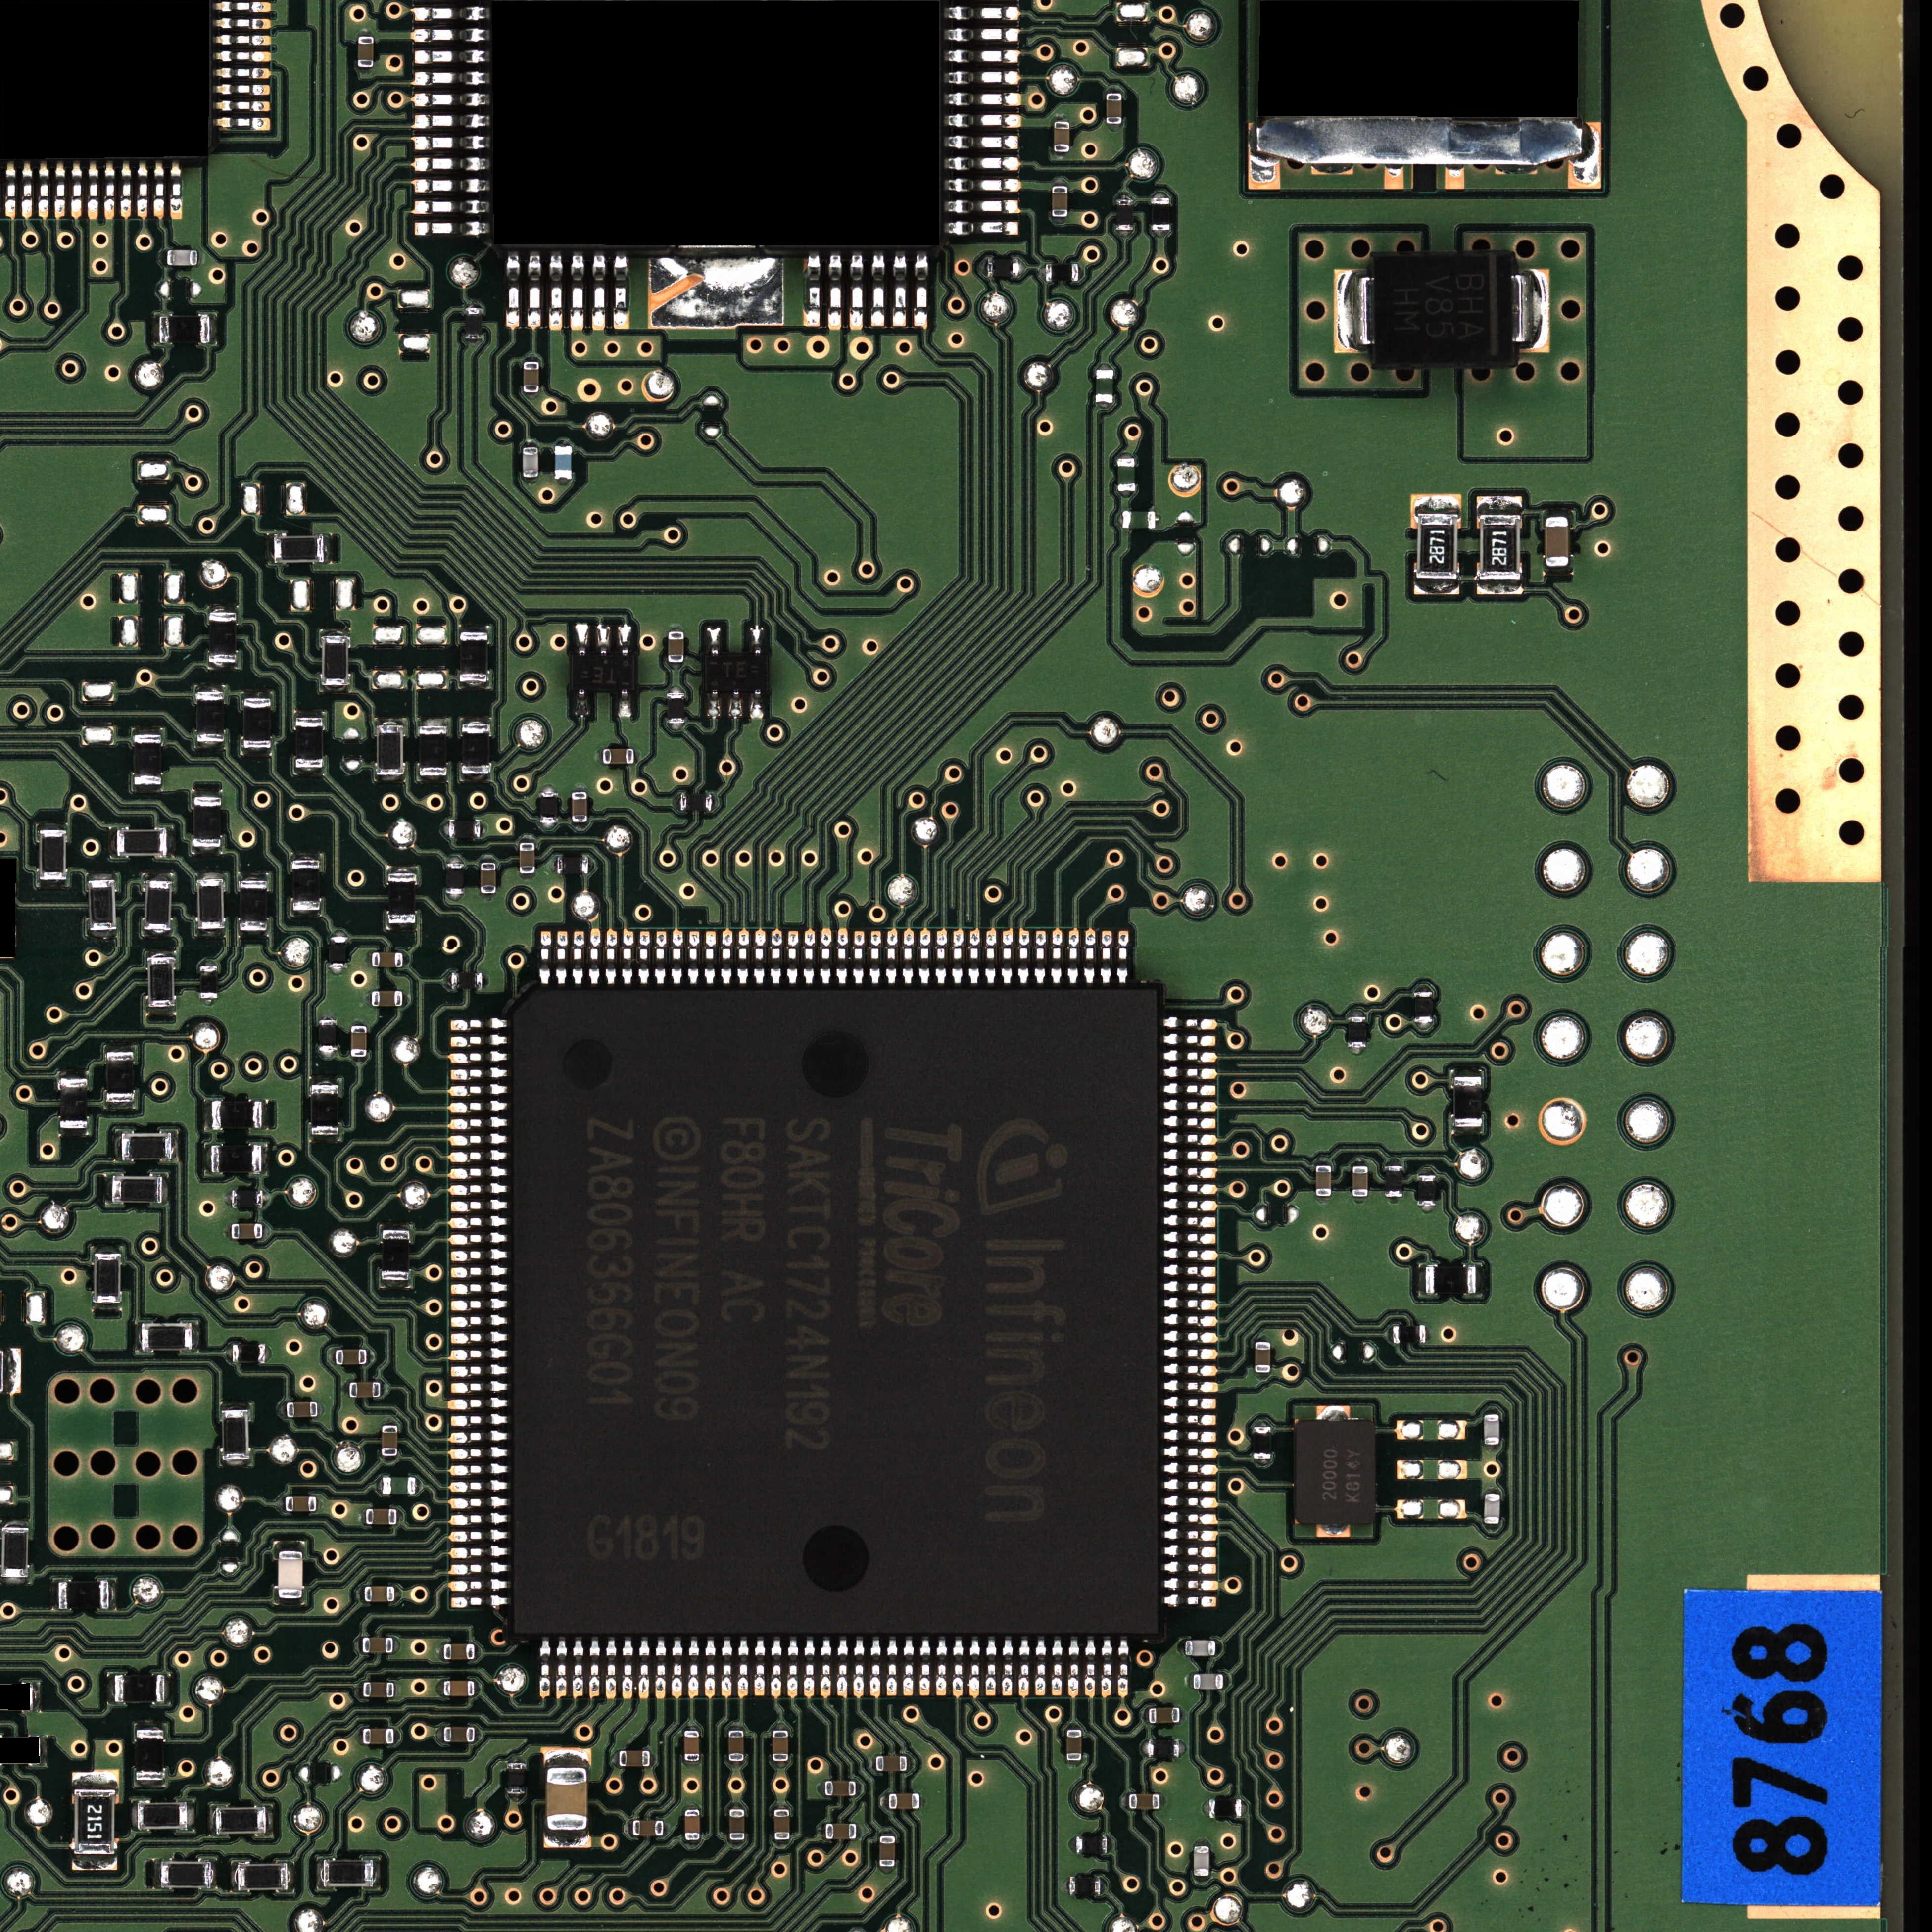Package: (508, 985, 1161, 1637), (1373, 253, 1513, 364), (1293, 1419, 1375, 1523), (74, 1789, 117, 1854), (1417, 513, 1458, 579), (1479, 515, 1520, 580), (547, 1767, 587, 1829), (571, 655, 635, 690), (704, 655, 768, 690), (1426, 1265, 1476, 1295), (387, 874, 416, 924), (196, 692, 225, 741), (159, 315, 209, 343), (193, 796, 221, 846), (209, 612, 237, 662), (462, 724, 490, 773), (295, 718, 324, 768), (136, 1730, 165, 1780), (115, 1674, 165, 1702), (212, 1100, 262, 1129), (106, 1051, 134, 1100), (242, 699, 271, 747), (460, 633, 488, 681), (212, 1145, 260, 1173), (1454, 1077, 1483, 1125), (274, 536, 324, 563), (292, 860, 318, 909), (117, 830, 166, 856), (241, 881, 267, 931), (134, 734, 161, 784), (58, 1582, 108, 1608), (122, 1132, 172, 1159), (60, 1077, 87, 1127), (216, 1806, 265, 1833), (142, 1323, 191, 1350), (324, 1859, 373, 1886), (2, 1527, 28, 1576), (311, 1085, 338, 1134), (322, 637, 349, 685), (419, 727, 446, 775), (113, 1177, 161, 1203), (382, 1231, 409, 1279), (239, 1863, 287, 1890), (198, 879, 223, 929), (377, 725, 402, 775), (41, 830, 65, 879), (145, 881, 170, 931), (138, 1803, 188, 1828), (223, 1410, 248, 1460), (149, 957, 173, 1007), (1545, 517, 1569, 566), (161, 1861, 209, 1886), (94, 1254, 119, 1302), (90, 881, 113, 931), (278, 1552, 303, 1598), (985, 257, 1019, 278), (1116, 458, 1136, 492), (1253, 1426, 1272, 1460), (557, 855, 589, 874), (232, 1189, 264, 1208), (1152, 198, 1171, 230), (1414, 993, 1433, 1024), (1417, 1175, 1437, 1207), (382, 1477, 416, 1495), (1095, 370, 1113, 403), (1122, 511, 1155, 529), (1046, 264, 1079, 281), (329, 936, 347, 968), (200, 966, 218, 998), (540, 791, 557, 823), (465, 308, 483, 340), (446, 863, 464, 895), (508, 1762, 525, 1794), (318, 1021, 336, 1053), (234, 1345, 265, 1362), (1348, 1016, 1366, 1047), (1392, 1325, 1424, 1343), (1076, 1836, 1108, 1854), (1385, 1166, 1403, 1198), (556, 446, 571, 479), (667, 694, 685, 724), (449, 821, 479, 839), (681, 794, 711, 812), (1116, 200, 1134, 230), (1483, 1414, 1500, 1444), (1210, 1799, 1240, 1817), (1070, 1877, 1100, 1895), (524, 361, 540, 393), (285, 1495, 317, 1511), (357, 37, 373, 67), (603, 748, 633, 764), (372, 952, 402, 968), (571, 793, 587, 823), (372, 991, 402, 1007), (166, 249, 196, 265), (522, 448, 538, 478), (350, 1026, 366, 1056), (685, 1810, 701, 1840), (773, 1810, 789, 1840), (363, 1637, 393, 1652), (876, 1755, 906, 1771), (232, 1223, 262, 1238), (366, 1509, 396, 1525), (363, 1729, 393, 1744), (350, 1382, 380, 1398), (287, 1401, 317, 1417), (444, 1681, 474, 1697), (633, 1821, 663, 1836), (444, 1644, 474, 1660), (444, 1727, 474, 1743), (729, 1810, 745, 1840), (382, 1426, 398, 1456), (364, 1585, 395, 1601), (879, 1836, 895, 1867), (1106, 94, 1122, 124), (1054, 122, 1070, 152), (1484, 1493, 1500, 1523), (1129, 1794, 1159, 1810), (1254, 1343, 1270, 1373), (1352, 1166, 1368, 1196), (1185, 1640, 1215, 1656), (1150, 1707, 1180, 1723), (1316, 1166, 1332, 1196), (1148, 1741, 1178, 1757), (826, 1780, 855, 1796), (1053, 186, 1067, 218), (1194, 1674, 1223, 1690), (520, 844, 534, 874), (669, 632, 683, 662), (481, 863, 495, 893), (773, 1730, 787, 1760), (685, 1730, 699, 1760), (336, 1350, 366, 1364), (826, 1824, 856, 1838), (363, 1683, 393, 1697), (619, 1752, 649, 1766), (729, 1730, 743, 1760), (1067, 1730, 1081, 1760), (890, 1794, 918, 1808), (1194, 1847, 1208, 1875)
Solder: (1253, 120, 1601, 189), (651, 258, 784, 326), (1336, 269, 1373, 354), (1514, 269, 1550, 352), (614, 253, 630, 329), (547, 255, 563, 331), (504, 253, 520, 329), (414, 136, 490, 152), (414, 157, 490, 173), (416, 200, 492, 216), (416, 221, 492, 237), (414, 177, 490, 193), (591, 255, 607, 329), (570, 255, 586, 329), (414, 5, 488, 21), (414, 27, 488, 42), (416, 50, 490, 65), (416, 73, 490, 88), (414, 92, 488, 108), (414, 113, 488, 129), (948, 113, 1019, 129), (805, 253, 819, 327), (527, 253, 541, 327), (947, 5, 1019, 19), (947, 48, 1019, 62), (947, 134, 1019, 149), (947, 92, 1019, 106), (948, 28, 1019, 42), (948, 71, 1019, 85), (948, 157, 1019, 172), (948, 221, 1019, 235), (948, 198, 1019, 212), (948, 179, 1019, 193), (915, 251, 927, 326), (893, 251, 906, 326), (870, 253, 883, 327), (830, 253, 842, 327), (2, 1348, 21, 1394), (543, 1831, 591, 1849), (543, 1748, 591, 1766), (449, 1215, 506, 1230), (449, 1200, 506, 1214), (449, 1051, 506, 1065), (449, 1380, 506, 1394), (449, 1067, 506, 1081), (449, 1414, 506, 1428), (449, 1430, 506, 1444), (449, 1150, 506, 1164), (449, 1166, 506, 1180), (449, 1182, 506, 1196), (449, 1116, 506, 1131), (449, 1100, 506, 1115), (449, 1463, 506, 1477), (449, 1479, 506, 1493), (449, 1562, 506, 1576), (449, 1529, 506, 1543), (449, 1513, 506, 1527), (449, 1578, 506, 1592), (214, 117, 271, 131), (851, 253, 862, 327), (1412, 495, 1456, 513), (451, 1330, 506, 1345), (451, 1315, 506, 1329), (451, 1281, 506, 1295), (451, 1265, 506, 1279), (451, 1364, 506, 1378), (451, 1017, 506, 1031), (605, 1638, 617, 1698), (655, 1638, 667, 1698), (853, 1638, 865, 1698), (952, 1638, 964, 1698), (1051, 1637, 1063, 1697), (73, 1771, 119, 1787), (1477, 497, 1523, 513), (1164, 1545, 1215, 1559), (556, 1640, 568, 1698), (902, 1638, 915, 1697), (803, 1640, 816, 1698), (754, 1638, 766, 1697), (704, 1640, 717, 1698), (1001, 1638, 1014, 1697), (1100, 1638, 1113, 1697), (73, 1854, 117, 1870), (449, 1233, 506, 1246), (449, 1398, 506, 1410), (449, 1035, 506, 1047), (449, 1085, 506, 1097), (449, 1134, 506, 1146), (449, 1447, 506, 1460), (449, 1497, 506, 1509), (451, 1299, 506, 1311), (451, 1249, 506, 1261), (451, 1348, 506, 1361), (451, 1546, 506, 1559), (451, 1596, 506, 1608), (1162, 1017, 1217, 1030), (1162, 1067, 1217, 1079), (1162, 1479, 1217, 1491), (1162, 1463, 1217, 1476), (1162, 1495, 1217, 1507), (1162, 1578, 1217, 1591), (853, 929, 865, 982), (819, 927, 832, 980), (1164, 1346, 1217, 1359), (1164, 1330, 1217, 1343), (1164, 1315, 1217, 1327), (1164, 1364, 1217, 1376), (1164, 1380, 1217, 1392), (1162, 1231, 1215, 1244), (1164, 1396, 1217, 1408), (1162, 1083, 1215, 1095), (1162, 1033, 1215, 1046), (1162, 1051, 1215, 1063), (1162, 1100, 1215, 1113), (1164, 1430, 1217, 1442), (1164, 1166, 1217, 1178), (1164, 1182, 1217, 1194), (1162, 1215, 1215, 1228), (1164, 1150, 1217, 1162), (1069, 1637, 1079, 1698), (1162, 1562, 1215, 1575), (1085, 1637, 1095, 1698), (1477, 580, 1523, 594), (589, 1638, 600, 1698), (623, 1638, 633, 1698), (970, 1638, 980, 1698), (639, 1638, 649, 1698), (672, 1638, 683, 1698), (870, 1638, 881, 1698), (837, 1638, 847, 1698), (688, 1638, 699, 1698), (787, 1638, 798, 1698), (771, 1638, 782, 1698), (952, 929, 964, 980), (918, 929, 931, 980), (902, 929, 915, 980), (605, 929, 617, 980), (621, 929, 633, 980), (754, 929, 766, 980), (770, 929, 782, 980), (803, 929, 816, 980), (736, 929, 748, 980), (720, 929, 732, 980), (1051, 929, 1063, 980), (968, 929, 980, 980), (1001, 929, 1014, 980), (1017, 929, 1030, 980), (984, 929, 996, 980), (1067, 929, 1079, 980), (1083, 929, 1095, 980), (1164, 1249, 1215, 1261), (1164, 1299, 1215, 1311), (1164, 1265, 1215, 1277), (1164, 1281, 1215, 1293), (1164, 1414, 1215, 1426), (1164, 1200, 1215, 1212), (1164, 1116, 1215, 1129), (1164, 1132, 1215, 1145), (1164, 1513, 1215, 1525), (1164, 1529, 1215, 1541), (573, 1640, 584, 1698), (936, 1638, 947, 1697), (540, 1640, 550, 1698), (920, 1638, 931, 1697), (886, 1638, 897, 1697), (821, 1640, 832, 1698), (722, 1640, 732, 1698), (738, 1638, 748, 1697), (985, 1638, 996, 1697), (1019, 1638, 1030, 1697), (1035, 1638, 1046, 1697), (1118, 1638, 1129, 1697), (556, 931, 568, 980), (655, 931, 667, 980), (671, 931, 683, 980), (704, 931, 717, 980), (1116, 931, 1129, 980), (1100, 931, 1113, 980), (1414, 580, 1456, 594), (214, 18, 271, 28), (214, 51, 271, 62), (214, 83, 271, 94), (214, 101, 271, 111), (214, 67, 271, 78), (154, 161, 165, 218), (172, 163, 182, 219), (39, 161, 50, 218), (216, 2, 271, 12), (216, 35, 271, 46), (71, 163, 81, 218), (104, 163, 115, 218), (5, 163, 16, 218), (55, 163, 65, 218), (1164, 1447, 1217, 1458), (936, 929, 947, 980), (589, 929, 600, 980), (886, 929, 897, 980), (837, 929, 847, 980), (1035, 929, 1046, 980), (1164, 1596, 1215, 1606), (1316, 1405, 1350, 1421), (540, 931, 550, 980), (573, 931, 584, 980), (639, 931, 649, 980), (870, 931, 881, 980), (787, 931, 798, 980), (688, 931, 699, 980), (573, 623, 589, 655), (88, 163, 97, 219), (122, 163, 131, 218), (138, 163, 147, 218), (23, 163, 32, 218), (596, 625, 612, 655), (1316, 1523, 1350, 1537), (617, 625, 632, 655), (708, 626, 722, 656), (575, 690, 589, 718), (750, 690, 764, 718), (708, 690, 722, 718), (617, 690, 632, 718), (729, 690, 743, 718), (750, 626, 763, 655), (387, 862, 416, 872), (318, 685, 350, 694), (104, 1173, 113, 1205), (191, 1322, 200, 1353), (265, 1805, 274, 1836), (113, 1131, 122, 1161), (104, 1102, 134, 1111), (58, 1129, 88, 1138), (287, 1861, 295, 1891), (230, 1861, 239, 1891), (34, 1683, 42, 1713), (147, 948, 175, 957), (196, 870, 225, 879), (239, 872, 267, 881), (292, 853, 320, 862), (143, 929, 172, 938), (221, 1401, 249, 1410), (106, 1042, 134, 1051), (60, 1069, 88, 1077), (147, 1007, 175, 1016), (274, 1541, 303, 1550), (136, 1721, 165, 1730), (1543, 566, 1571, 575), (260, 1143, 267, 1177), (1476, 1263, 1483, 1297), (39, 879, 65, 888), (134, 784, 161, 793), (145, 872, 172, 881), (209, 313, 216, 345), (318, 630, 350, 637), (205, 1099, 212, 1131), (134, 1322, 142, 1353), (161, 1173, 168, 1205), (203, 1143, 211, 1175), (172, 1131, 179, 1162), (51, 1578, 58, 1610), (373, 1858, 380, 1890), (209, 1805, 216, 1836), (108, 1578, 115, 1610), (1419, 1263, 1426, 1295), (1451, 1069, 1483, 1076), (41, 1736, 48, 1767), (2, 1576, 27, 1585), (166, 826, 173, 856), (267, 533, 274, 563), (92, 1304, 122, 1311), (380, 1223, 410, 1230), (92, 1246, 122, 1253), (380, 1281, 410, 1288), (211, 1858, 218, 1888), (131, 1801, 138, 1831), (317, 1858, 324, 1888), (188, 1801, 195, 1831), (154, 1859, 161, 1890), (108, 1674, 115, 1704), (110, 828, 117, 856), (242, 748, 271, 755), (196, 929, 225, 936), (324, 534, 331, 563), (242, 692, 271, 699), (295, 711, 324, 718), (460, 625, 488, 632), (460, 683, 488, 690), (462, 718, 490, 725), (462, 773, 490, 780), (310, 1077, 338, 1085), (136, 1780, 165, 1787), (221, 1460, 249, 1467), (274, 1598, 303, 1605), (1543, 510, 1571, 517), (1454, 1127, 1483, 1134), (377, 718, 403, 725), (196, 685, 223, 692), (39, 823, 65, 830), (88, 872, 115, 879), (88, 931, 115, 938), (241, 931, 267, 938), (295, 768, 322, 775), (196, 741, 223, 748), (311, 1134, 338, 1141), (2, 1520, 28, 1527), (1414, 1023, 1433, 1031), (154, 313, 159, 345), (165, 1674, 170, 1706), (200, 998, 218, 1007), (610, 1750, 619, 1767), (683, 1760, 701, 1769), (1385, 1157, 1403, 1166), (1348, 1008, 1366, 1017), (387, 924, 416, 929), (292, 911, 320, 916), (193, 847, 221, 853), (419, 720, 448, 725), (193, 791, 221, 796), (262, 1100, 267, 1129), (209, 607, 235, 612), (134, 729, 161, 734), (419, 775, 446, 780), (209, 662, 235, 667), (276, 1495, 285, 1511), (685, 1840, 701, 1849), (625, 1821, 633, 1836), (729, 1840, 745, 1849), (1194, 1838, 1210, 1847), (1414, 984, 1433, 991), (1253, 1460, 1272, 1467), (1069, 1835, 1076, 1854), (1062, 1875, 1069, 1895), (200, 959, 218, 966), (265, 1345, 272, 1362), (771, 1762, 789, 1769), (727, 1762, 745, 1769), (508, 1794, 525, 1801), (817, 1822, 824, 1840), (771, 1723, 789, 1730), (773, 1840, 791, 1847), (474, 1644, 481, 1661), (1348, 1047, 1366, 1054), (1065, 1760, 1083, 1767), (1192, 1875, 1210, 1882), (1100, 1877, 1108, 1895), (1201, 1799, 1208, 1817), (379, 775, 402, 780), (161, 249, 168, 265), (226, 1345, 234, 1361), (225, 1191, 232, 1207), (356, 1729, 363, 1744), (524, 354, 540, 361), (556, 439, 571, 446), (881, 1792, 888, 1808), (685, 1803, 701, 1810), (908, 1755, 915, 1771), (663, 1821, 671, 1836), (773, 1803, 789, 1810), (879, 1829, 895, 1836), (817, 1780, 824, 1796), (920, 1792, 927, 1808), (879, 1867, 895, 1874), (474, 1727, 481, 1743), (1097, 363, 1113, 370), (1419, 1168, 1435, 1175), (1419, 1207, 1435, 1214), (1187, 1674, 1194, 1690), (1215, 1640, 1223, 1656), (1065, 1723, 1081, 1730), (1141, 1741, 1148, 1757), (1180, 1741, 1187, 1757), (1122, 1794, 1129, 1810), (1178, 1640, 1185, 1656), (1106, 124, 1122, 131), (448, 893, 462, 901), (448, 856, 462, 863), (225, 1224, 232, 1238), (262, 1224, 269, 1238), (331, 968, 345, 975), (317, 1403, 324, 1417), (366, 952, 373, 966), (437, 1645, 444, 1660), (437, 1681, 444, 1695), (357, 1683, 364, 1697), (359, 1509, 366, 1523), (357, 1638, 364, 1652), (437, 1727, 444, 1741), (393, 1729, 400, 1743), (359, 1587, 366, 1601), (587, 858, 594, 872), (550, 858, 557, 872), (669, 662, 683, 669), (649, 1752, 656, 1766), (1039, 265, 1046, 280), (1053, 216, 1067, 223), (1116, 193, 1131, 200), (1053, 179, 1067, 186), (980, 260, 987, 274), (1316, 1159, 1330, 1166), (1316, 1196, 1330, 1203), (1143, 1709, 1150, 1723), (1484, 1523, 1499, 1530), (465, 340, 483, 345), (318, 1053, 336, 1058), (508, 1757, 525, 1762), (474, 1679, 479, 1697), (1095, 403, 1113, 409), (1253, 1421, 1270, 1426), (1385, 1198, 1403, 1203), (1426, 1325, 1431, 1343), (402, 993, 409, 1005), (573, 786, 586, 793), (465, 303, 481, 308), (196, 249, 202, 265), (281, 1401, 287, 1417), (416, 1477, 421, 1493), (377, 1477, 382, 1493), (524, 393, 540, 398), (598, 748, 603, 764), (522, 478, 538, 483), (556, 479, 571, 485), (856, 1780, 862, 1796), (729, 1803, 745, 1808), (729, 1725, 745, 1730), (683, 1725, 699, 1730), (1154, 230, 1169, 235), (1116, 230, 1132, 235), (1118, 453, 1134, 458), (1118, 492, 1134, 497), (1254, 1373, 1270, 1378), (1387, 1327, 1392, 1343), (1254, 1336, 1270, 1341), (1352, 1161, 1368, 1166), (1352, 1196, 1368, 1201), (1224, 1674, 1230, 1690), (1161, 1794, 1166, 1810), (1180, 1707, 1185, 1723), (1108, 1836, 1113, 1852), (1242, 1799, 1247, 1815), (359, 67, 373, 73), (359, 32, 373, 37), (442, 821, 448, 835), (262, 1192, 267, 1207), (366, 1350, 372, 1364), (382, 1421, 396, 1426), (352, 1021, 366, 1026), (366, 991, 372, 1005), (320, 1016, 334, 1021), (352, 1056, 366, 1062), (396, 1509, 402, 1523), (382, 1456, 396, 1461), (317, 1497, 322, 1511), (393, 1638, 398, 1652), (395, 1683, 400, 1697), (395, 1587, 400, 1601), (524, 442, 538, 448), (669, 626, 683, 632), (669, 686, 683, 692), (541, 824, 556, 830), (669, 724, 683, 729), (633, 748, 639, 763), (856, 1824, 862, 1838), (870, 1757, 876, 1771), (1154, 193, 1168, 198), (1079, 265, 1085, 280), (1019, 260, 1024, 274), (1054, 117, 1069, 122), (1116, 513, 1122, 527), (1155, 513, 1161, 527), (1484, 1445, 1499, 1451), (481, 893, 494, 899), (333, 931, 345, 936), (345, 1384, 350, 1396), (380, 1384, 386, 1396), (331, 1352, 336, 1364), (573, 823, 586, 828), (541, 786, 554, 791), (711, 796, 717, 809), (1484, 1408, 1497, 1414), (1486, 1488, 1499, 1493), (483, 858, 494, 863), (448, 973, 451, 989), (483, 973, 487, 989), (481, 821, 485, 835), (403, 952, 407, 966), (520, 874, 534, 878), (676, 794, 679, 809), (1054, 152, 1069, 156), (1108, 88, 1122, 92), (520, 839, 533, 842)
